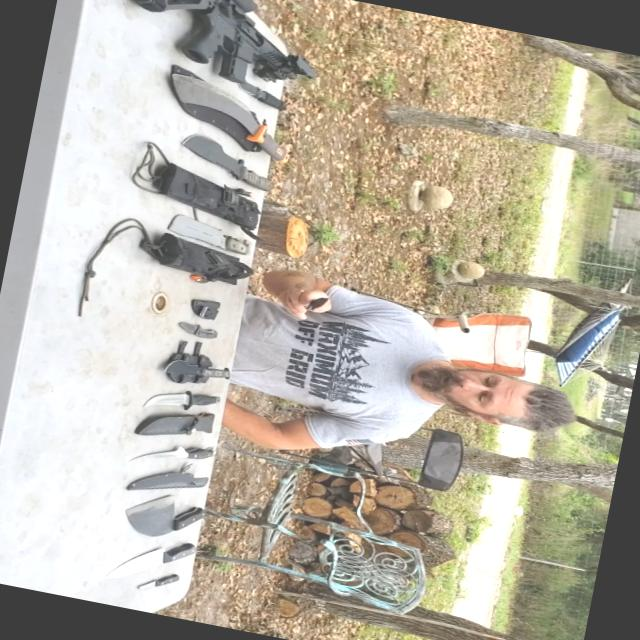knife: (156, 68, 306, 168), (100, 518, 206, 602), (176, 124, 286, 196), (106, 480, 219, 550), (146, 206, 264, 266), (145, 341, 245, 398), (123, 426, 218, 480), (216, 72, 310, 124), (137, 378, 219, 428), (164, 318, 233, 351), (130, 565, 184, 601), (290, 287, 332, 322)
long weapon: (102, 0, 341, 102)
